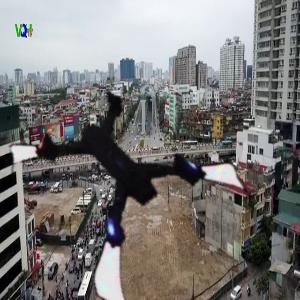drone: (31, 78, 244, 291)
